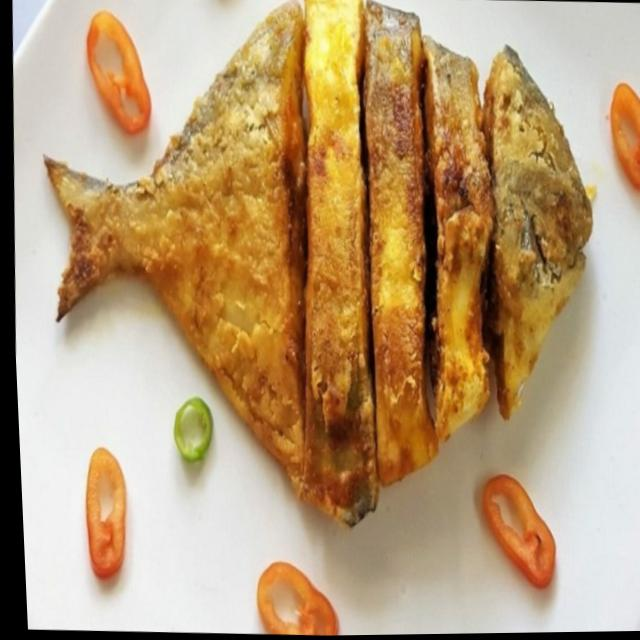FISH FRY: (44, 0, 590, 523)
